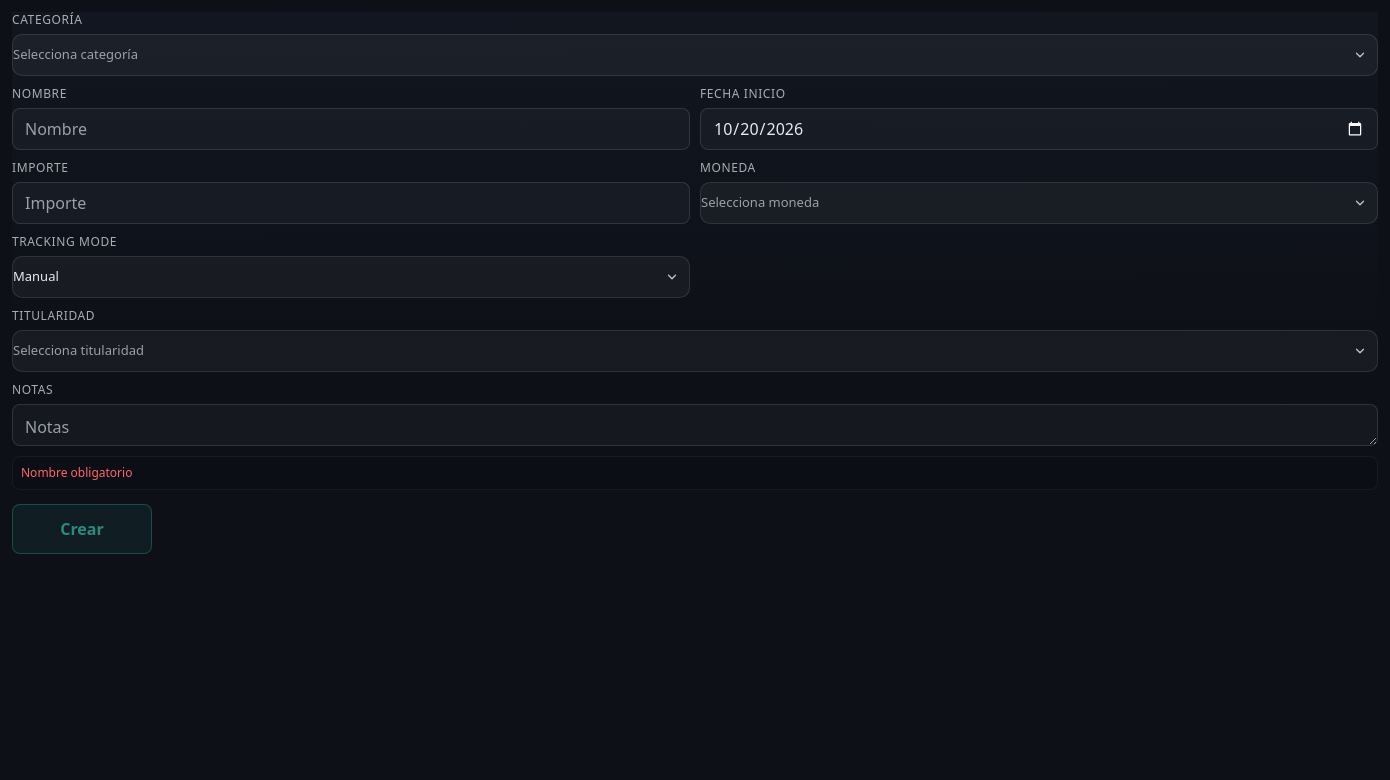
it: ItemForm (core) › shows amount validation errors
Type "12.3.4" into the field with placeholder "Importe".
click(351, 203); type("12.3.4")  # box [12,182,690,224]
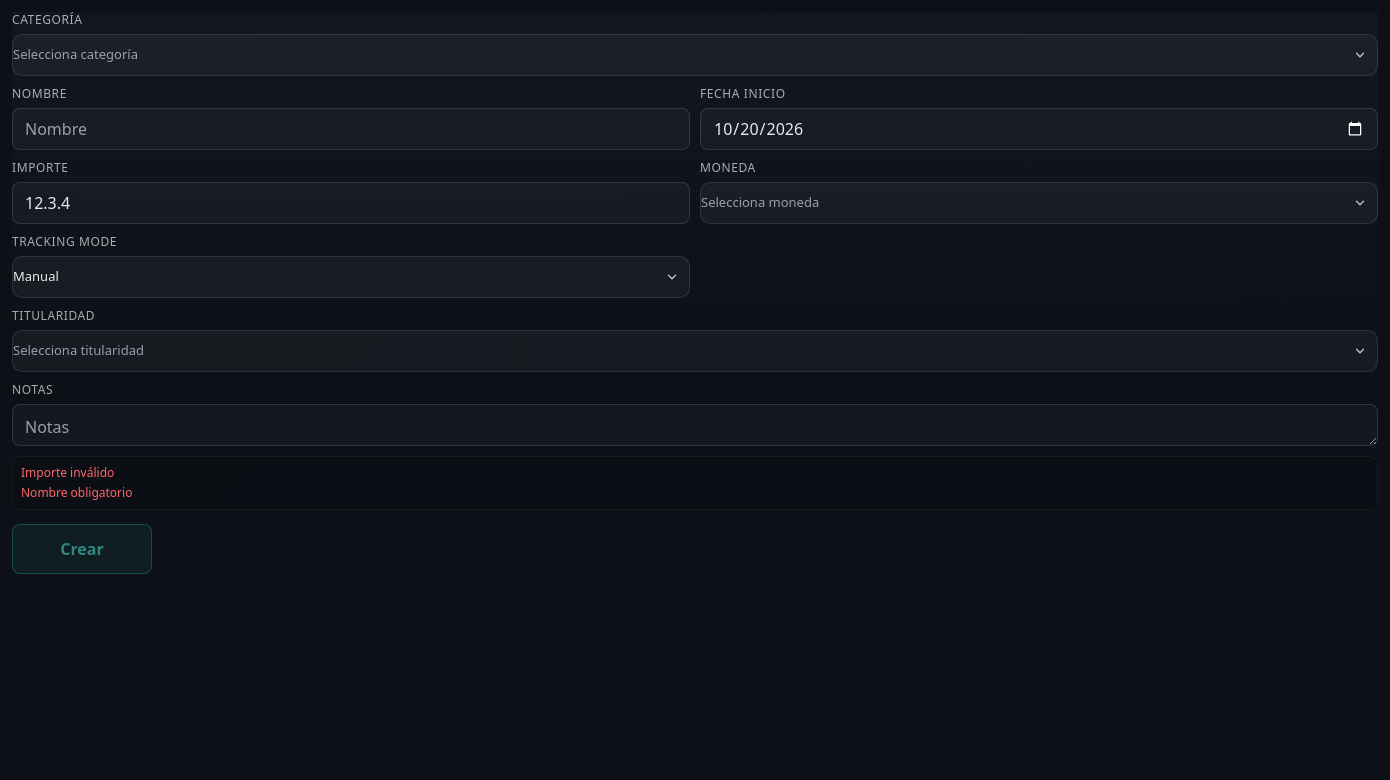
expect the text "Importe inv" is shown: met, box [21,464,114,481]
